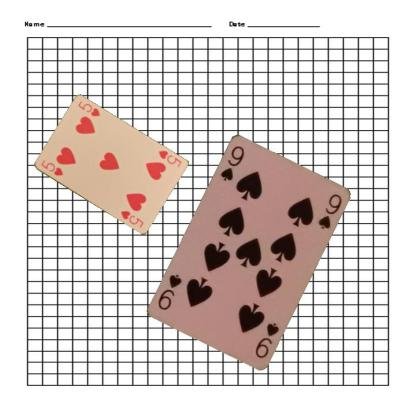5h: (38, 158, 64, 178), (156, 148, 182, 168)
9s: (252, 320, 280, 360), (218, 142, 245, 183)
